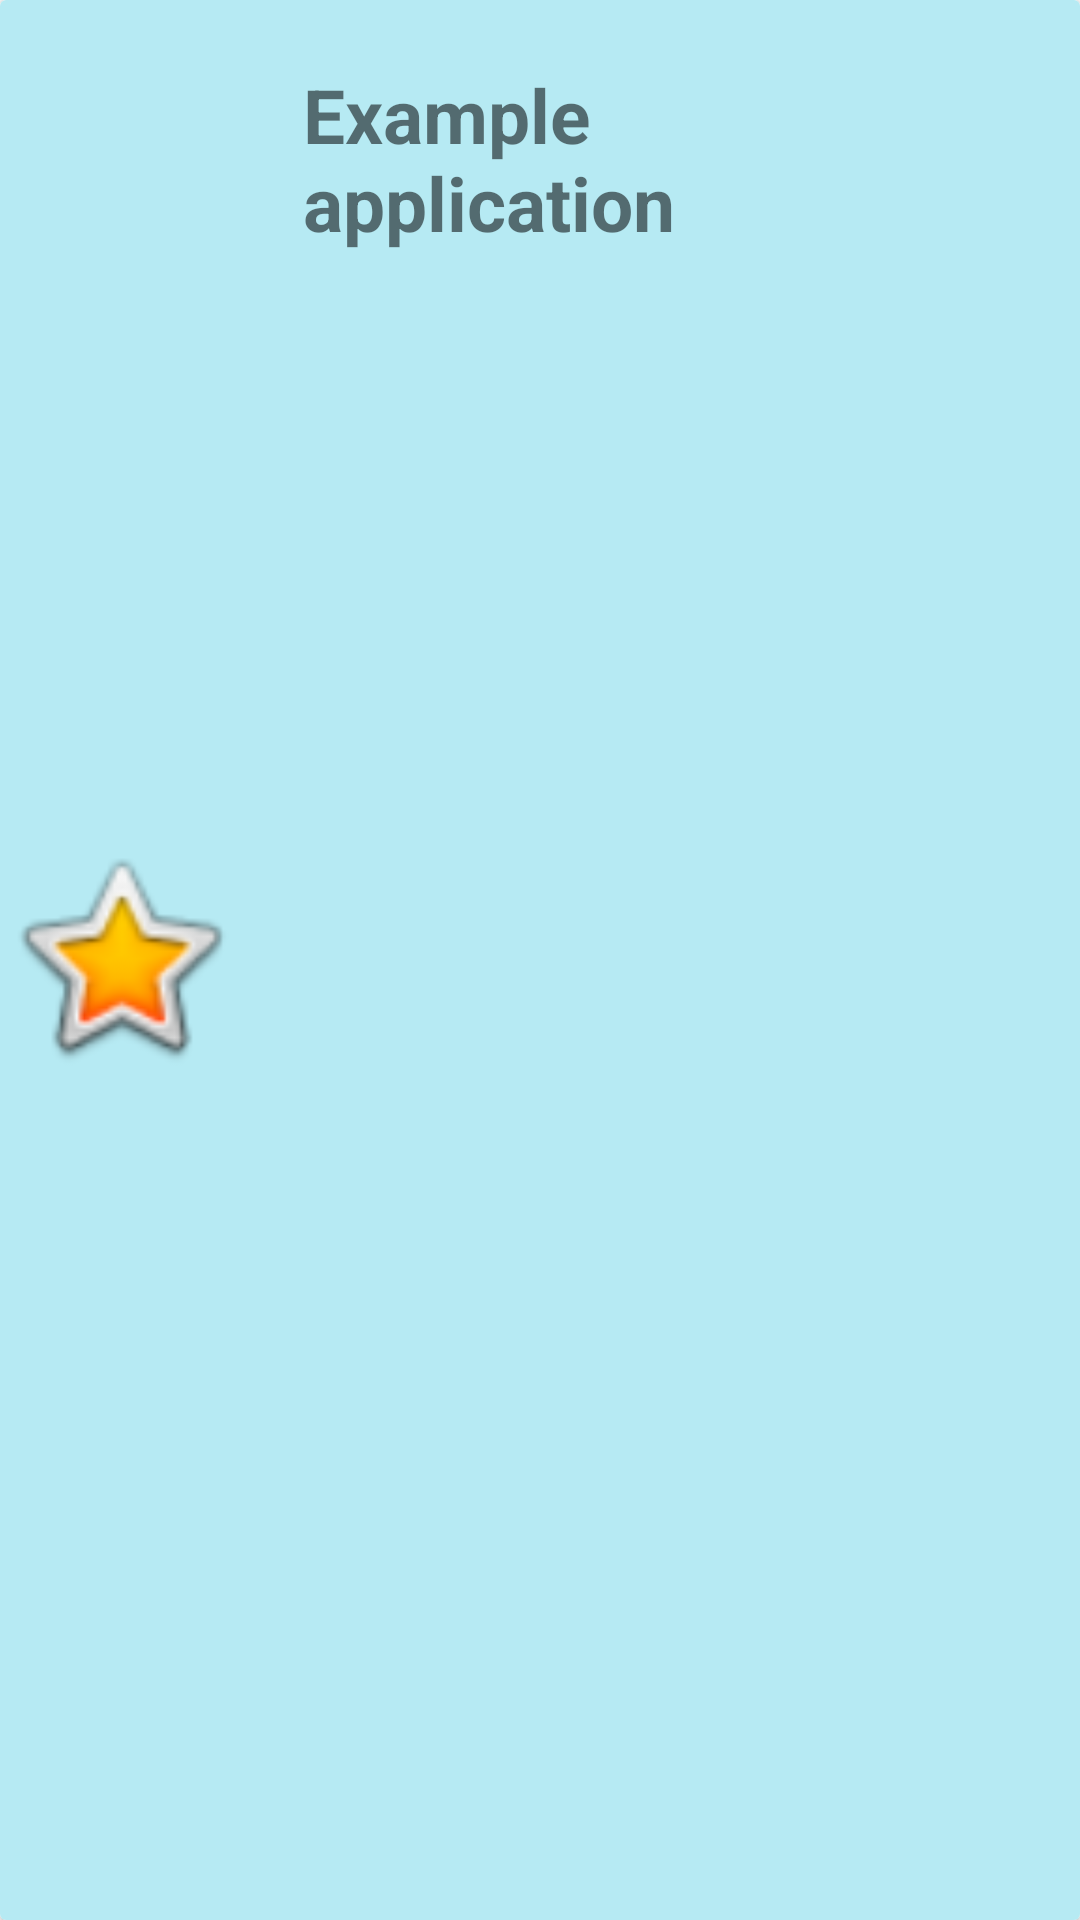

Screen size 1080px x 1920px. Icon name, then its box in pixels as (x1, y1, x2, y2):
star on: (22, 861, 222, 1056)
